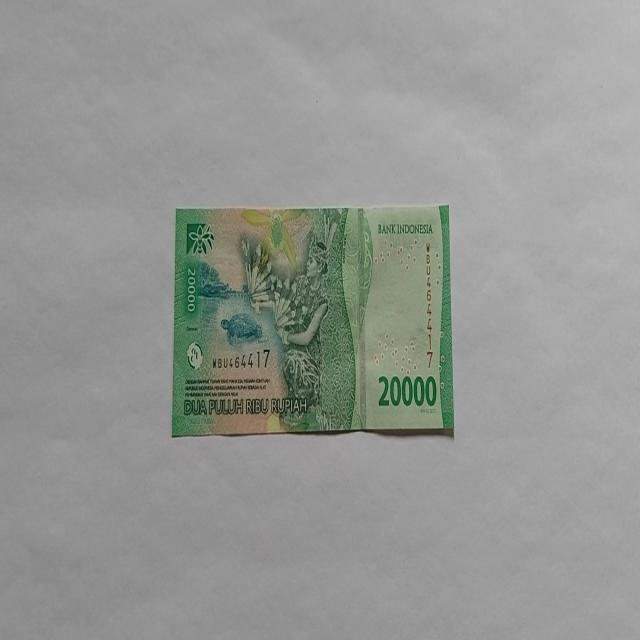dua puluh ribu rupiah: (171, 204, 455, 438)
